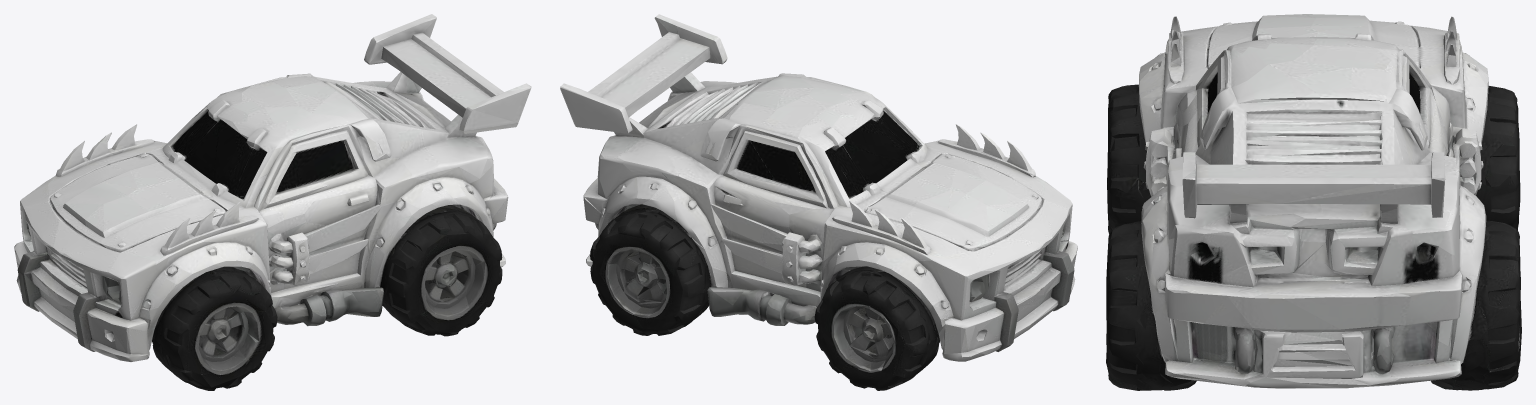
File: foot_racer.glb
3 views of the same model, side by side, from view 1: azimuth 30°, elevation 25°; view 2: azimuth 150°, elevation 25°; view 3: azimuth 270°, elevation 25° (orthographic). The views are drawn at different scales.
Parts seen in each view (by area): view 1: Mesh_0; view 2: Mesh_0; view 3: Mesh_0.
Part boxes in pixels (x1,y1,x2,y2): Mesh_0: (14, 14, 531, 390); Mesh_0: (560, 14, 1077, 390); Mesh_0: (1106, 14, 1521, 390).
Size of the model in its own units: 1.9 by 0.8587 by 1.2.
Materials: 1 (1 with a texture image).
